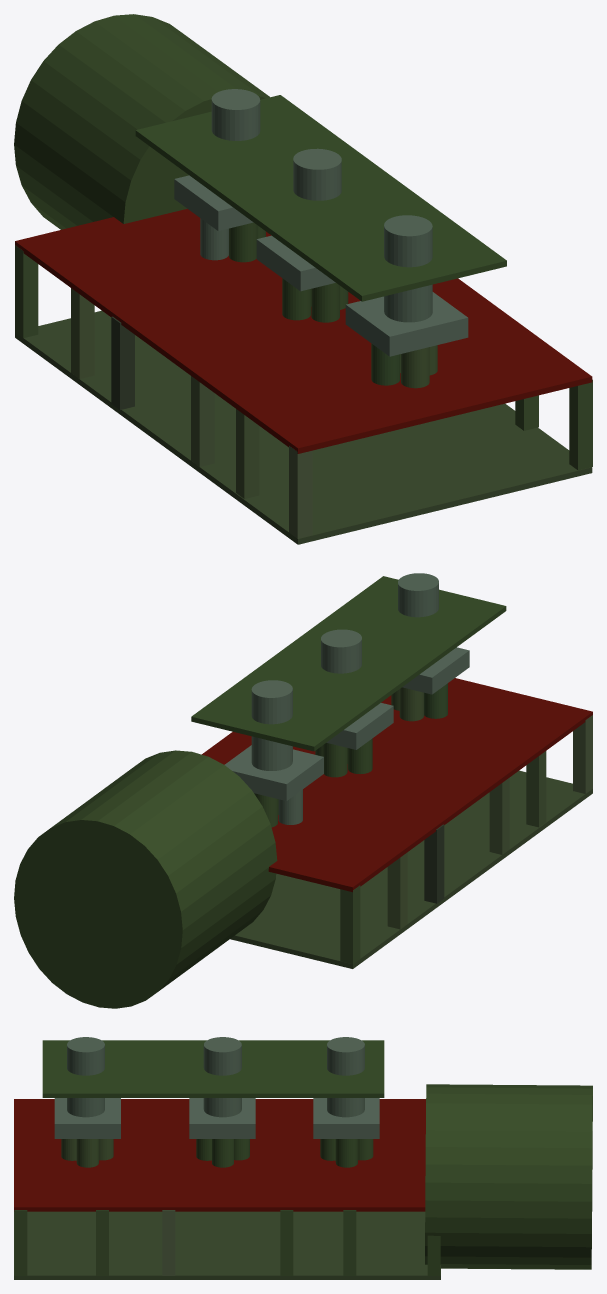
The picture shows the model from 3 angles, top to bottom: view 1: azimuth 30°, elevation 25°; view 2: azimuth 150°, elevation 25°; view 3: azimuth 270°, elevation 25°; orthographic projection. The views are drawn at different scales.
Parts seen in each view (by area): view 1: Cube.013, Cube, Cylinder.015, Cube.017, Cube.015, Cylinder.014, Cylinder.013, Cylinder.012, Cube.014, Cube.016, Cube.007, Cube.001 (+12 smaller); view 2: Cylinder.015, Cube.013, Cube.017, Cube, Cylinder.013, Cube.016, Cylinder.012, Cylinder.014, Cube.008, Cube.015, Cube.014, Cube.010 (+9 smaller); view 3: Cube.013, Cylinder.015, Cube, Cube.017, Cube.014, Cube.016, Cube.015, Cylinder.012, Cylinder.013, Cylinder.014, Cube.001, Cube.003 (+12 smaller).
Part boxes in pixels (bbox=[...]): Cube.013: bbox=[15, 209, 592, 453]; Cube: bbox=[15, 310, 592, 544]; Cylinder.015: bbox=[14, 14, 269, 229]; Cube.017: bbox=[135, 95, 506, 301]; Cube.015: bbox=[345, 292, 468, 356]; Cylinder.014: bbox=[384, 215, 432, 322]; Cylinder.013: bbox=[211, 89, 260, 140]; Cylinder.012: bbox=[293, 148, 341, 200]; Cube.014: bbox=[256, 235, 335, 291]; Cube.016: bbox=[174, 175, 253, 230]; Cube.007: bbox=[289, 446, 312, 538]; Cube.001: bbox=[569, 379, 592, 470]; Cylinder.015: bbox=[14, 750, 277, 1008]; Cube.013: bbox=[202, 678, 592, 892]; Cube.017: bbox=[191, 576, 506, 751]; Cube: bbox=[230, 770, 592, 968]; Cylinder.013: bbox=[251, 680, 292, 770]; Cube.016: bbox=[224, 745, 323, 800]; Cylinder.012: bbox=[321, 629, 361, 673]; Cylinder.014: bbox=[398, 573, 438, 617]; Cube.008: bbox=[340, 885, 360, 964]; Cube.015: bbox=[402, 647, 469, 694]; Cube.014: bbox=[326, 703, 393, 749]; Cube.010: bbox=[424, 824, 444, 903]; Cube.013: bbox=[14, 1099, 425, 1211]; Cylinder.015: bbox=[425, 1084, 592, 1269]; Cube: bbox=[14, 1211, 440, 1279]; Cube.017: bbox=[42, 1040, 384, 1097]; Cube.014: bbox=[189, 1098, 255, 1138]; Cube.016: bbox=[313, 1098, 379, 1138]; Cube.015: bbox=[54, 1098, 120, 1138]; Cylinder.012: bbox=[203, 1037, 241, 1117]; Cylinder.013: bbox=[327, 1037, 364, 1117]; Cylinder.014: bbox=[67, 1037, 104, 1117]; Cube.001: bbox=[14, 1210, 27, 1275]; Cube.003: bbox=[343, 1210, 356, 1275].
Bounding box in the file's own units: 1.51 × 1.27 × 3.33.
